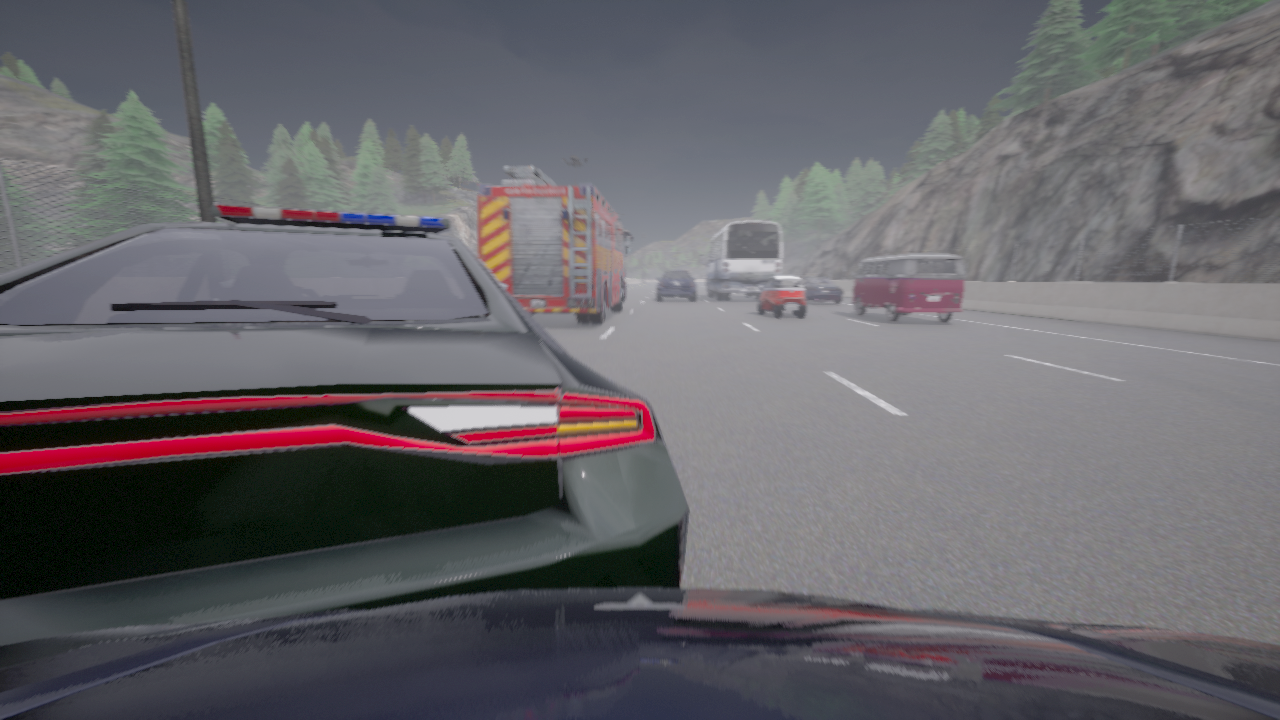cyclist: (0, 204, 688, 644), (0, 588, 1279, 719), (478, 166, 631, 323), (852, 254, 965, 322), (701, 220, 782, 299), (759, 275, 805, 317), (657, 270, 695, 301), (801, 277, 843, 304)
